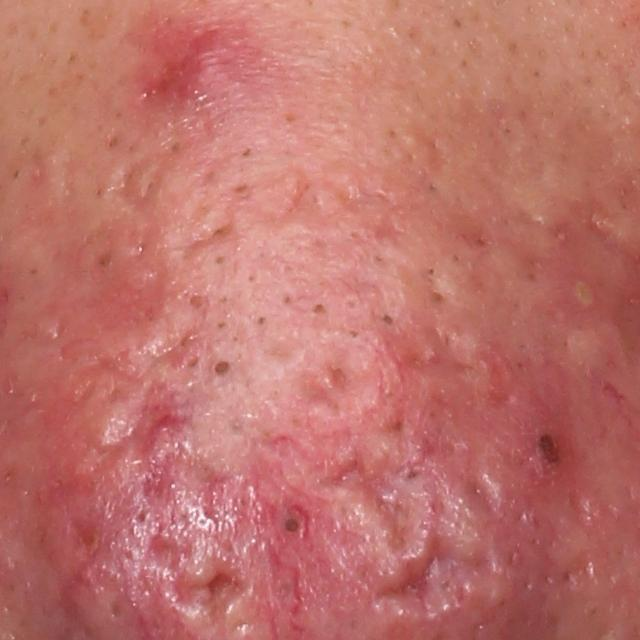atrophic_scar: (61, 383, 195, 494), (66, 304, 202, 404), (376, 493, 486, 612), (326, 447, 416, 556), (146, 534, 250, 628), (423, 417, 505, 515), (79, 255, 172, 333), (392, 316, 486, 386), (104, 152, 178, 231), (169, 458, 244, 534), (377, 410, 439, 492), (182, 217, 241, 258)
comedo: (275, 504, 312, 540), (207, 355, 235, 384), (310, 298, 332, 322), (377, 307, 397, 328)
papule: (150, 22, 238, 103), (502, 405, 576, 483)
pustule: (563, 272, 611, 319)
